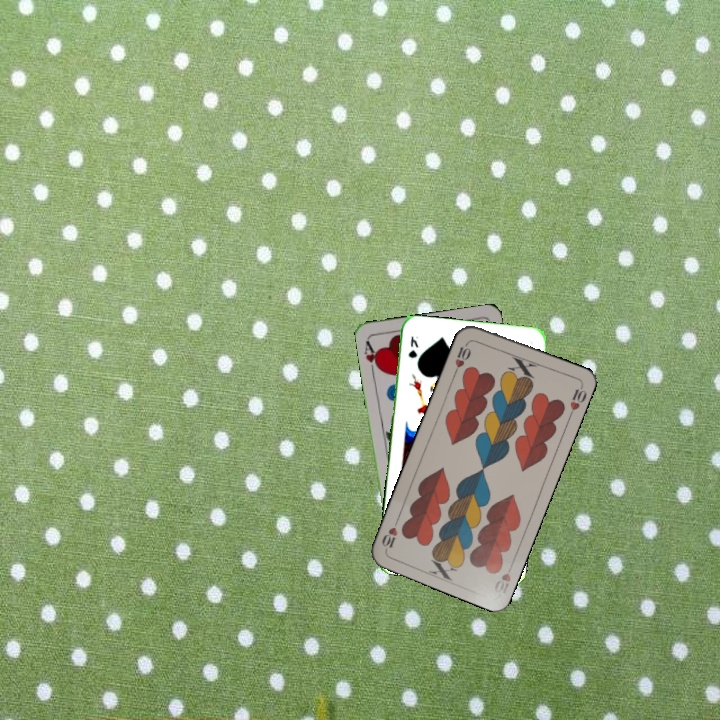GK: (404, 332, 421, 361)
H10: (490, 558, 516, 596), (450, 337, 473, 376)
HA: (360, 336, 383, 377)
